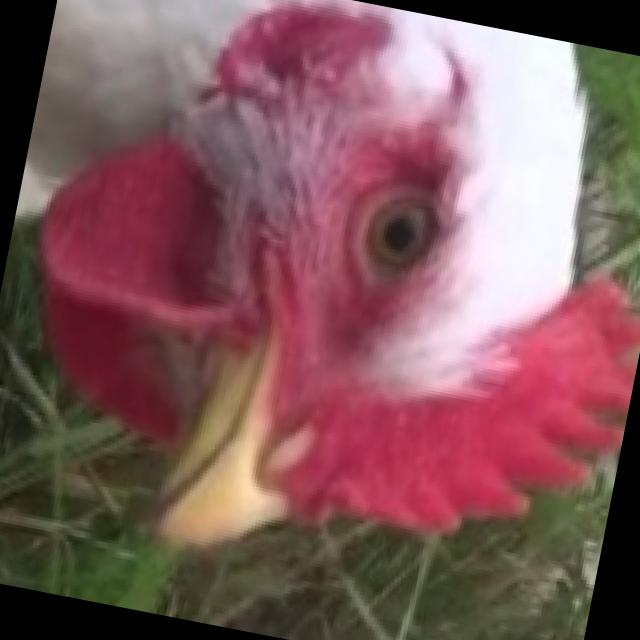Healthy: (0, 0, 640, 626)
